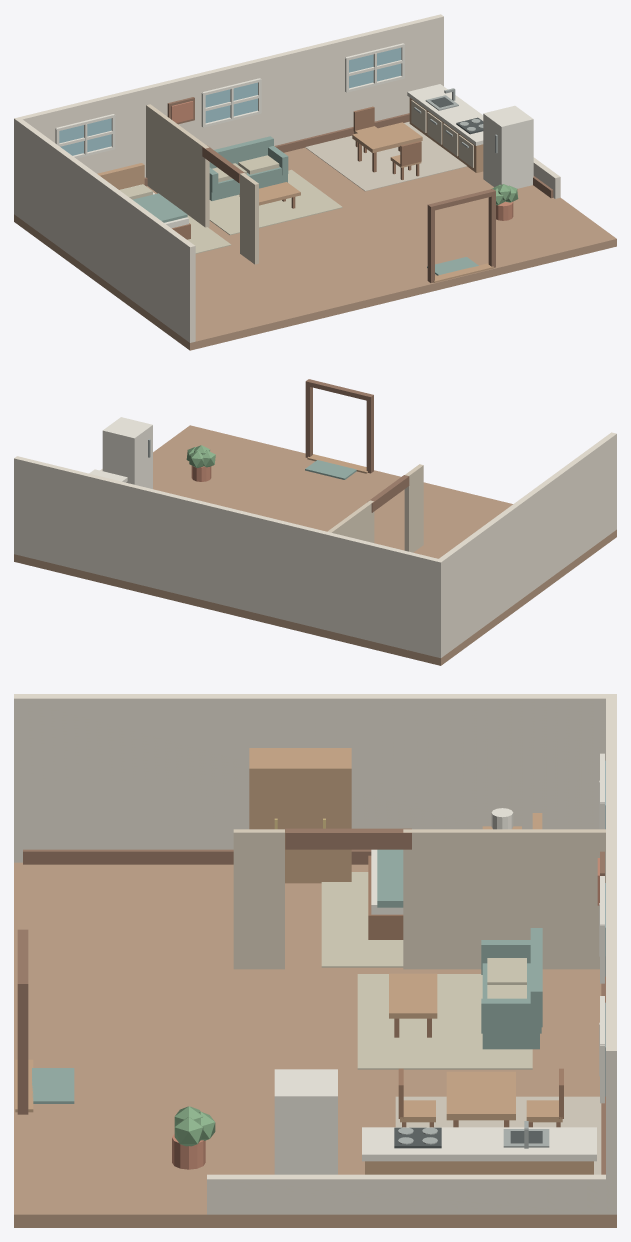
Rendered from P01_Rumah_Original.fbx.
The picture shows the model from 3 angles, top to bottom: view 1: azimuth 30°, elevation 25°; view 2: azimuth 150°, elevation 25°; view 3: azimuth 270°, elevation 25°; orthographic projection. The views are drawn at different scales.
Visible parts, largest first — view 1: P01_Floor_Slab, P01_Rear_Wall, P01_Left_Wall, P01_Bedroom_Partition_Back, P01_Kitchen_Tile, P01_Fridge, P01_Living_Rug, P01_Kitchen_Counter, P01_Bedroom_Partition_Front, P01_Window_Glass.001, P01_Dining_Table, P01_Window_Glass.002 (+17 smaller); view 2: P01_Rear_Wall, P01_Floor_Slab, P01_Left_Wall, P01_Fridge, P01_Bedroom_Partition_Front, P01_Bedroom_Partition_Back, P01_Entrance_Mat, P01_Entrance_Jamb, P01_Bedroom_Door_Header, P01_Entrance_Jamb.001, P01_Entrance_Lintel; view 3: P01_Floor_Slab, P01_Left_Wall, P01_Bedroom_Partition_Back, P01_Right_Wall, P01_Living_Rug, P01_Wardrobe, P01_Bedroom_Partition_Front, P01_Fridge, P01_Kitchen_Counter, P01_Rear_Wall, P01_Bedroom_Rug, P01_Left_Baseboard (+19 smaller).
Boxes of the visible parts, x1,y1,x2,y2 form: P01_Floor_Slab: (14,147,616,350); P01_Rear_Wall: (14,14,443,202); P01_Left_Wall: (14,119,195,342); P01_Bedroom_Partition_Back: (146,104,209,227); P01_Kitchen_Tile: (305,121,467,191); P01_Fridge: (483,105,533,188); P01_Living_Rug: (209,169,342,235); P01_Kitchen_Counter: (407,84,483,145); P01_Bedroom_Partition_Front: (240,173,258,264); P01_Window_Glass.001: (205,82,257,123); P01_Dining_Table: (352,122,422,152); P01_Window_Glass.002: (349,47,401,88); P01_Rear_Wall: (14,456,443,656); P01_Floor_Slab: (14,425,616,665); P01_Left_Wall: (435,432,616,658); P01_Fridge: (102,417,152,488); P01_Bedroom_Partition_Front: (404,464,423,552); P01_Bedroom_Partition_Back: (327,500,374,542); P01_Entrance_Mat: (305,460,356,479); P01_Entrance_Jamb: (366,398,373,473); P01_Bedroom_Door_Header: (367,475,409,512); P01_Entrance_Jamb.001: (305,384,312,457); P01_Entrance_Lintel: (305,379,373,400); P01_Floor_Slab: (14,862,616,1227); P01_Left_Wall: (14,694,605,862); P01_Bedroom_Partition_Back: (403,829,605,969); P01_Right_Wall: (207,1174,616,1214); P01_Living_Rug: (357,974,532,1069); P01_Wardrobe: (249,748,351,883); P01_Bedroom_Partition_Front: (233,829,284,969); P01_Fridge: (274,1069,337,1174); P01_Kitchen_Counter: (362,1127,596,1161); P01_Rear_Wall: (606,694,616,1214); P01_Bedroom_Rug: (321,872,403,967); P01_Left_Baseboard: (23,849,371,864).
Bounding box in the file's own units: 1400 × 324 × 1000.
